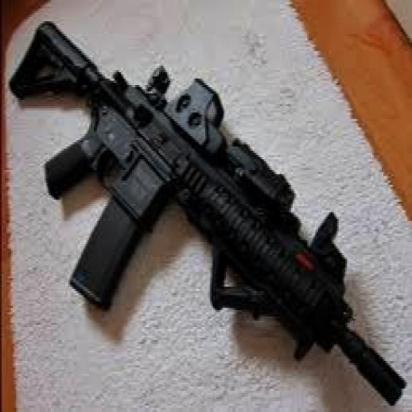Gun: (10, 16, 408, 406)
